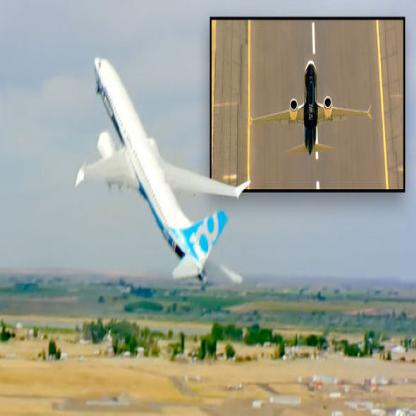CIV_Plane: (76, 47, 250, 294), (247, 56, 376, 174)
